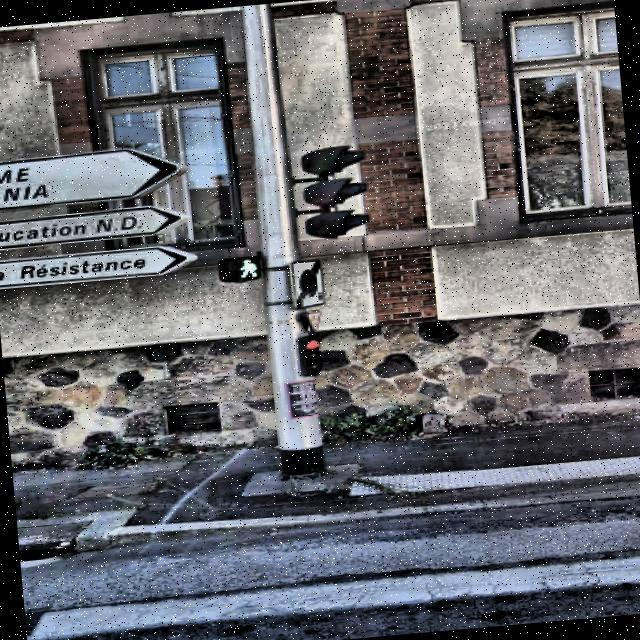green_light: (231, 253, 259, 280)
